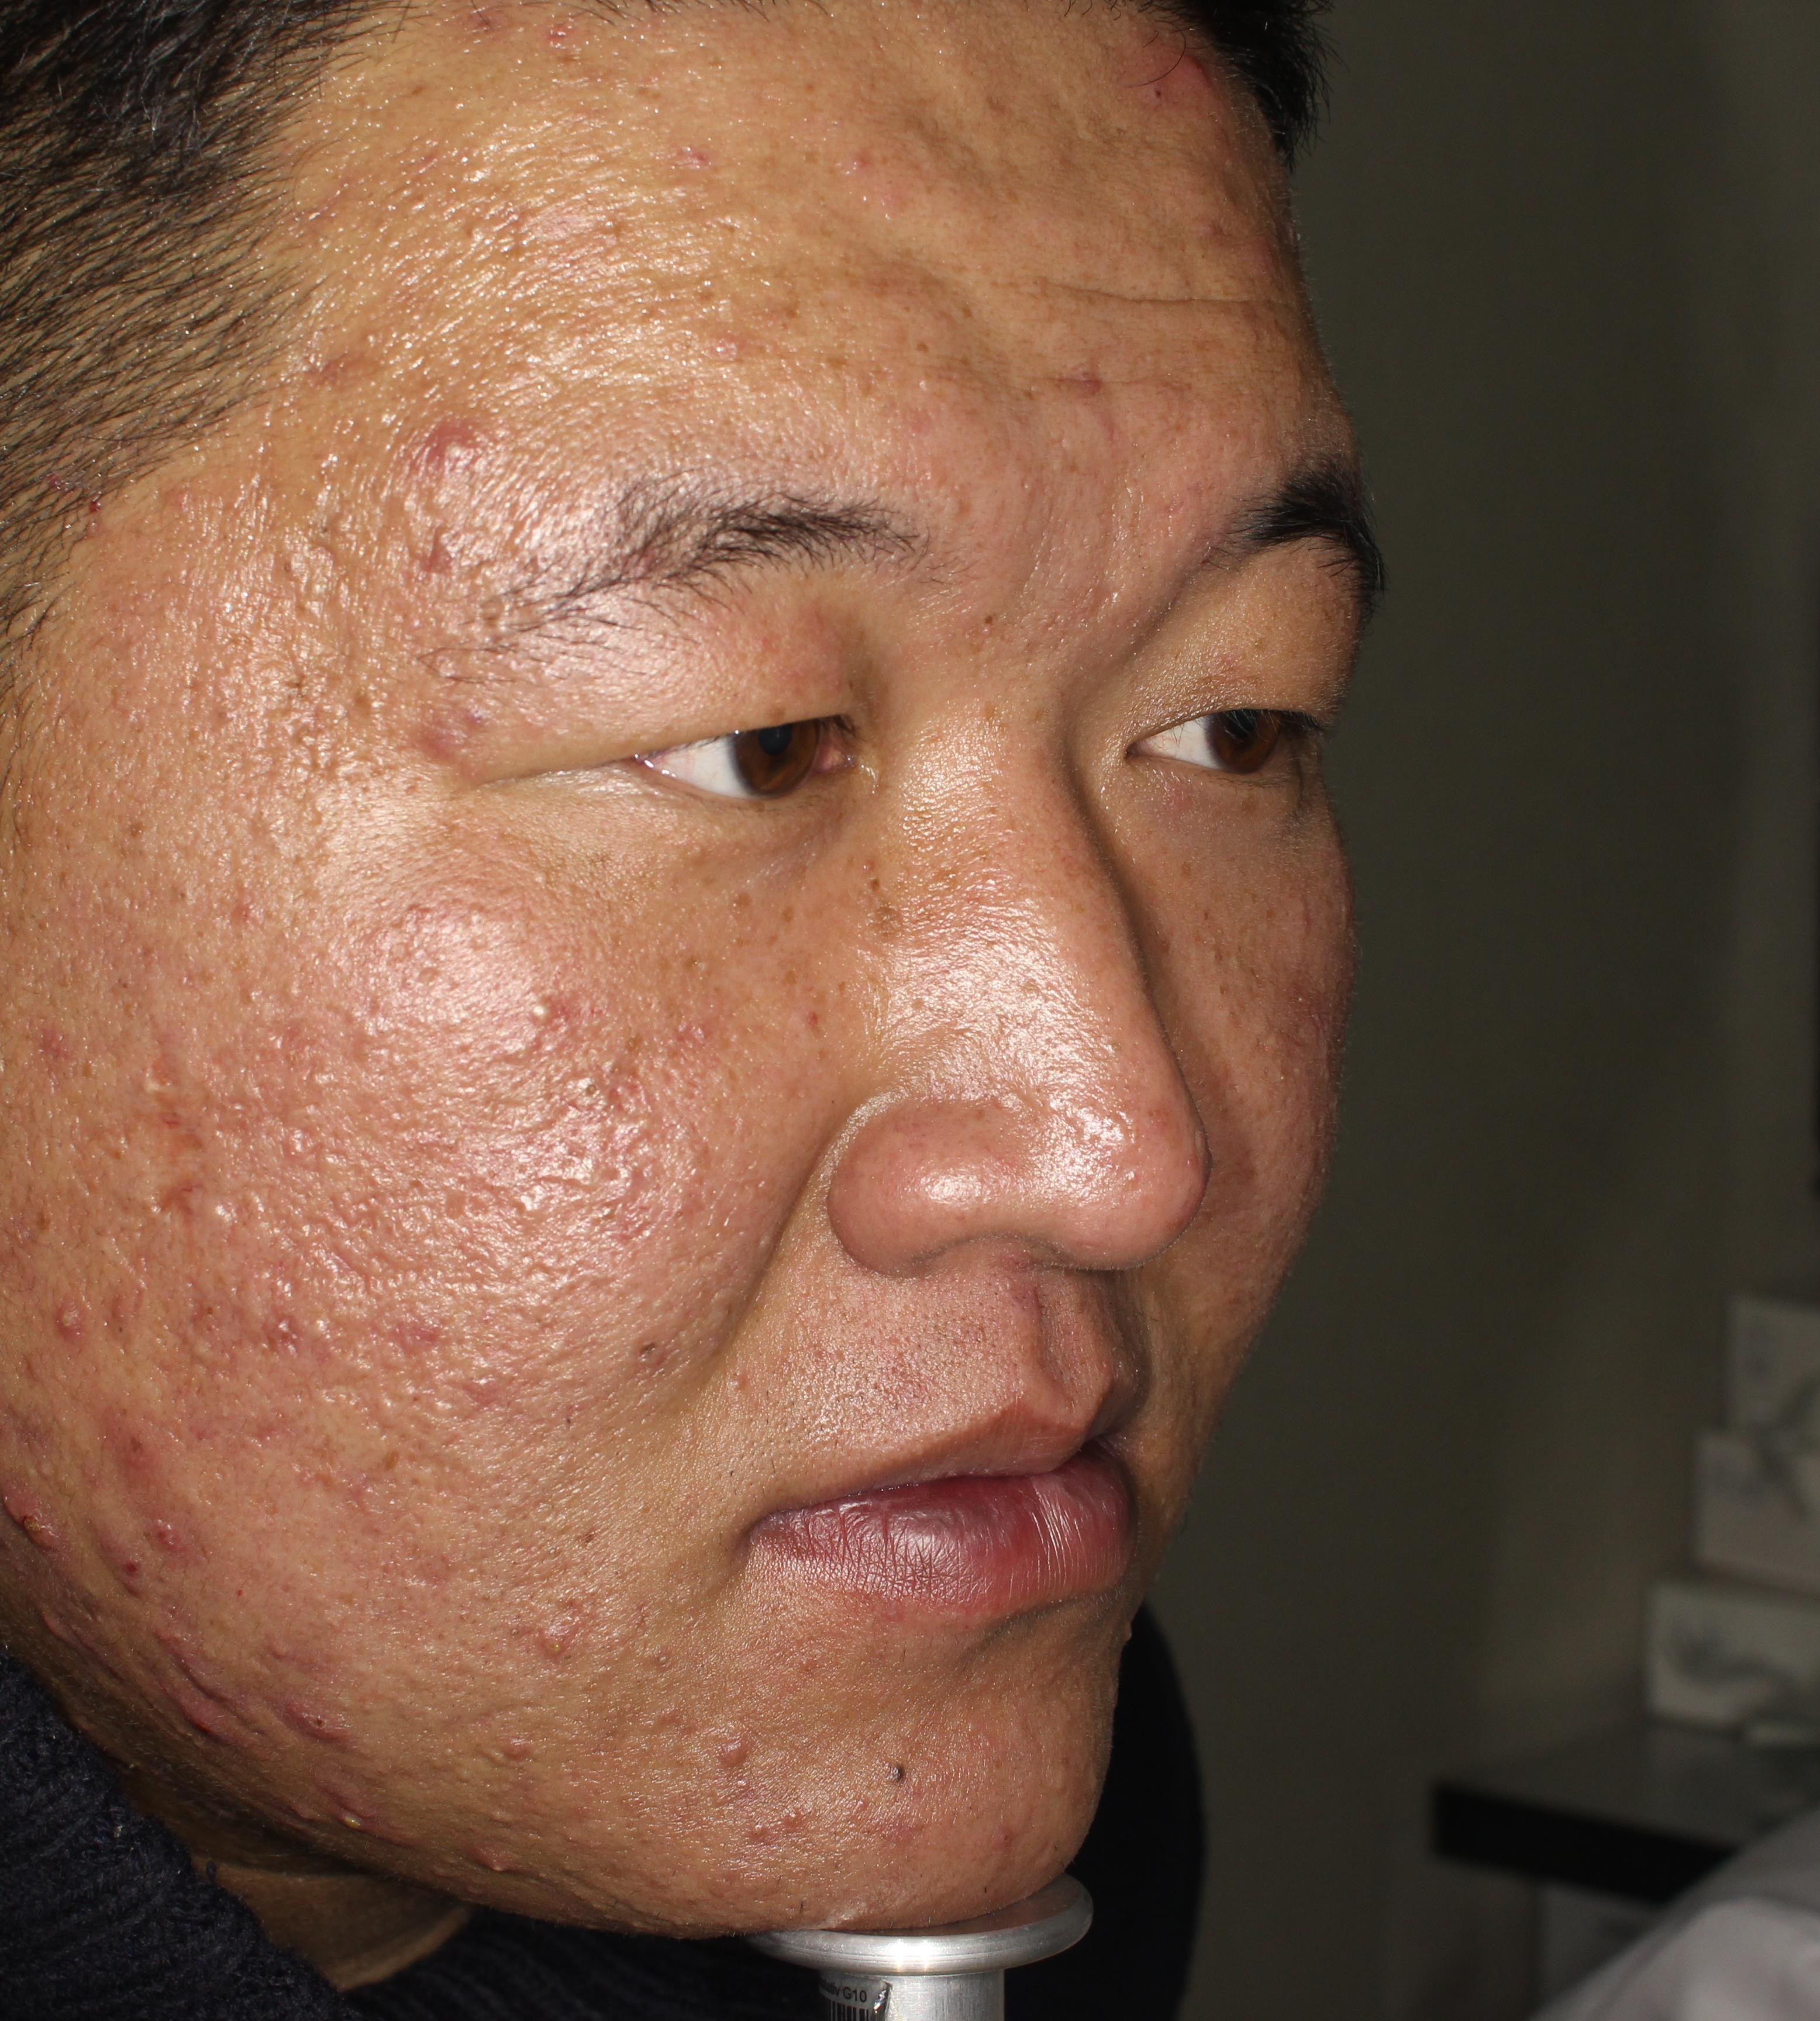fore: (320, 1754, 401, 1858), (450, 1817, 552, 1898), (104, 1387, 199, 1473), (459, 1710, 557, 1791), (690, 1710, 785, 1791), (37, 1280, 123, 1361), (123, 1482, 216, 1549), (409, 388, 471, 486), (19, 994, 95, 1061), (11, 1473, 63, 1545), (511, 1577, 574, 1635)
